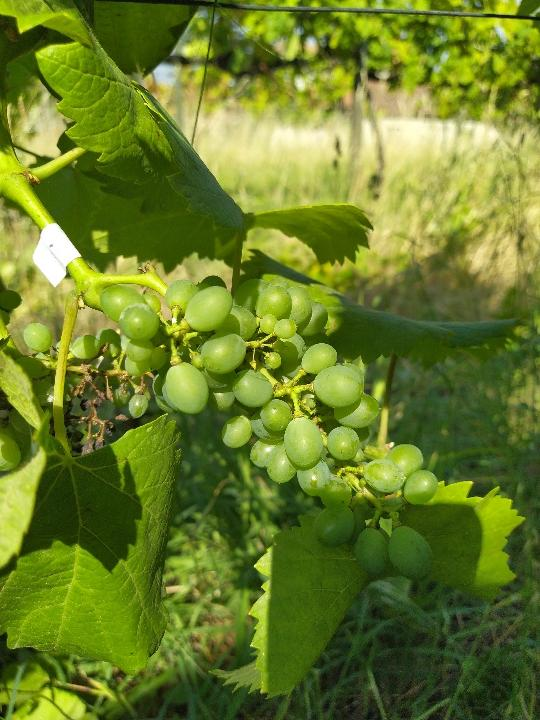grape: (89, 275, 448, 588)
